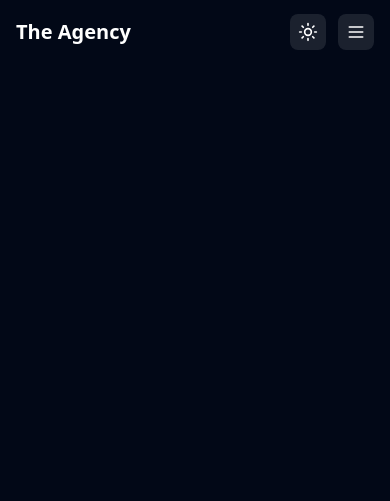
it: Navigation › toggles the mobile menu and exposes its state
The width and height of the screenshot is (390, 501).
Click the button named "Open menu". click: {"x": 356, "y": 32}
box: [338,14,374,50]
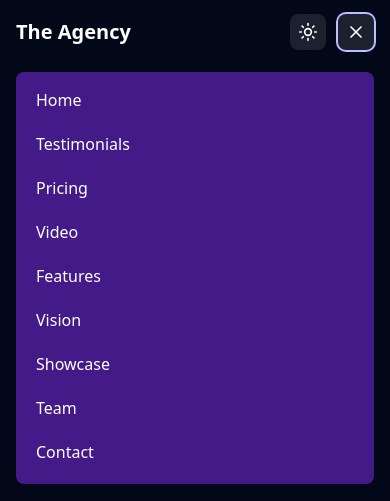
Expected: the button named "Close menu" is expanded, [338,14,374,50]
Expected: the list with id "mobile-navigation" is shown
Press Escape
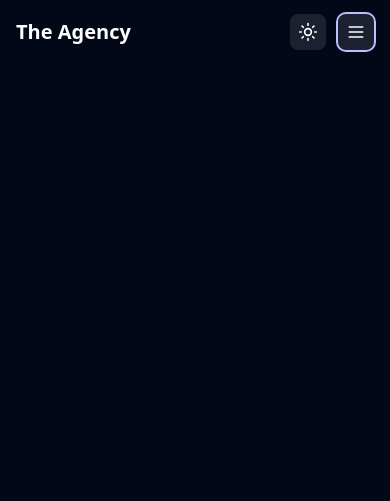
Expected: the list with id "mobile-navigation" is gone
